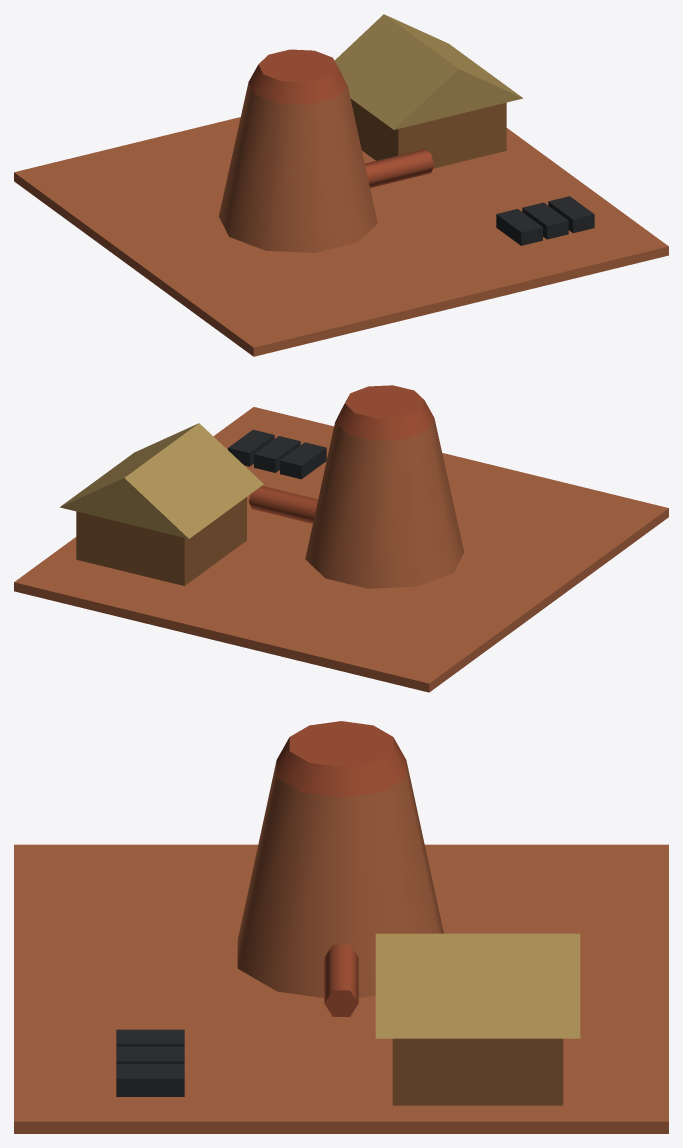
Rendered from building_relau_besi.glb.
3 views of the same model, one above another, from view 1: azimuth 30°, elevation 25°; view 2: azimuth 150°, elevation 25°; view 3: azimuth 270°, elevation 25° (orthographic). The views are drawn at different scales.
Visible parts, largest first — view 1: building_relau_besi; view 2: building_relau_besi; view 3: building_relau_besi.
Boxes of the visible parts, <box> form: building_relau_besi: <box>14,14,668,356</box>; building_relau_besi: <box>14,385,668,692</box>; building_relau_besi: <box>14,721,668,1133</box>.
Size of the model in its own units: 0.96 by 0.36 by 0.96.
